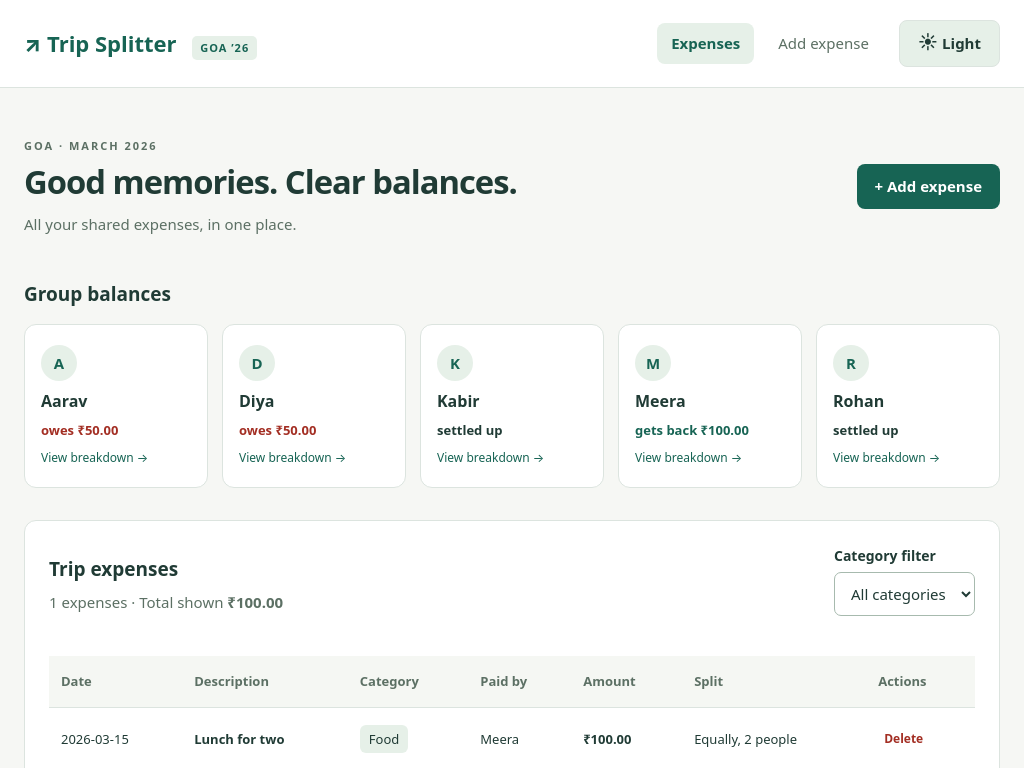
Scenario: opens an expense with metadata and all five shares, including an excluded payer
Click the button with aria-label "View Lunch for two details" at [239, 739], box [194,730,284,749]
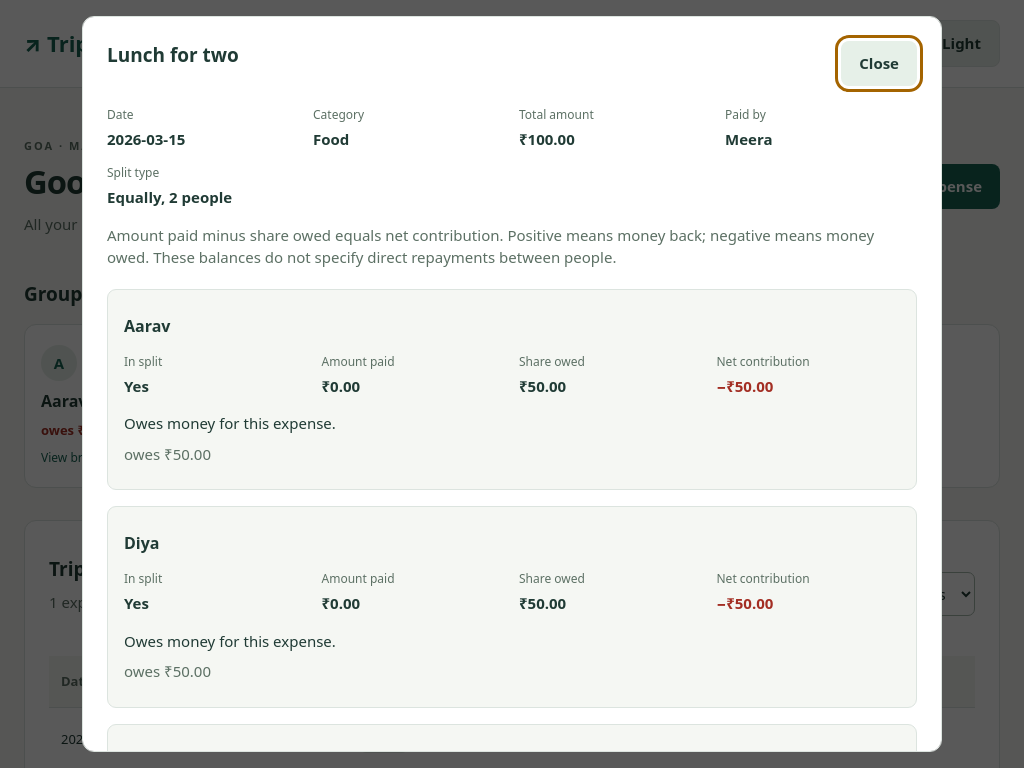
Expected: the dialog "Lunch for two" shows "Equally, 2 people", [107,187,232,207]
Expected: the dialog "Lunch for two" shows "2026-03-15", [107,128,185,148]
Expected: the dialog "Lunch for two" shows "Food", [313,128,349,148]
Press Escape
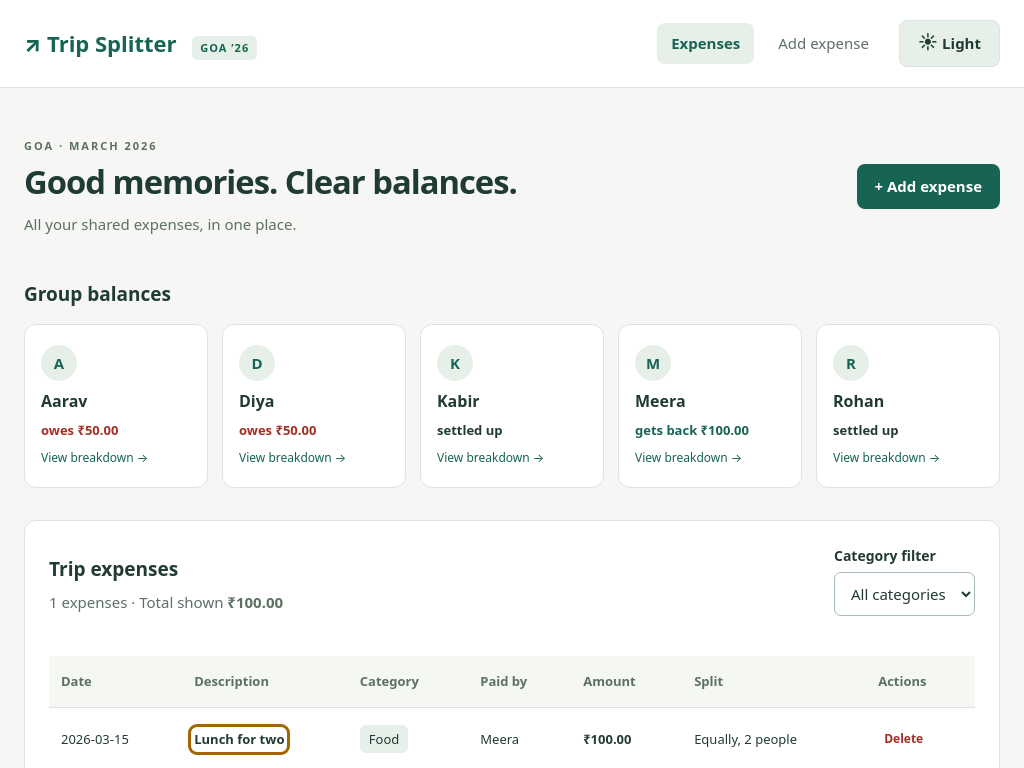
Expected: the dialog is gone
